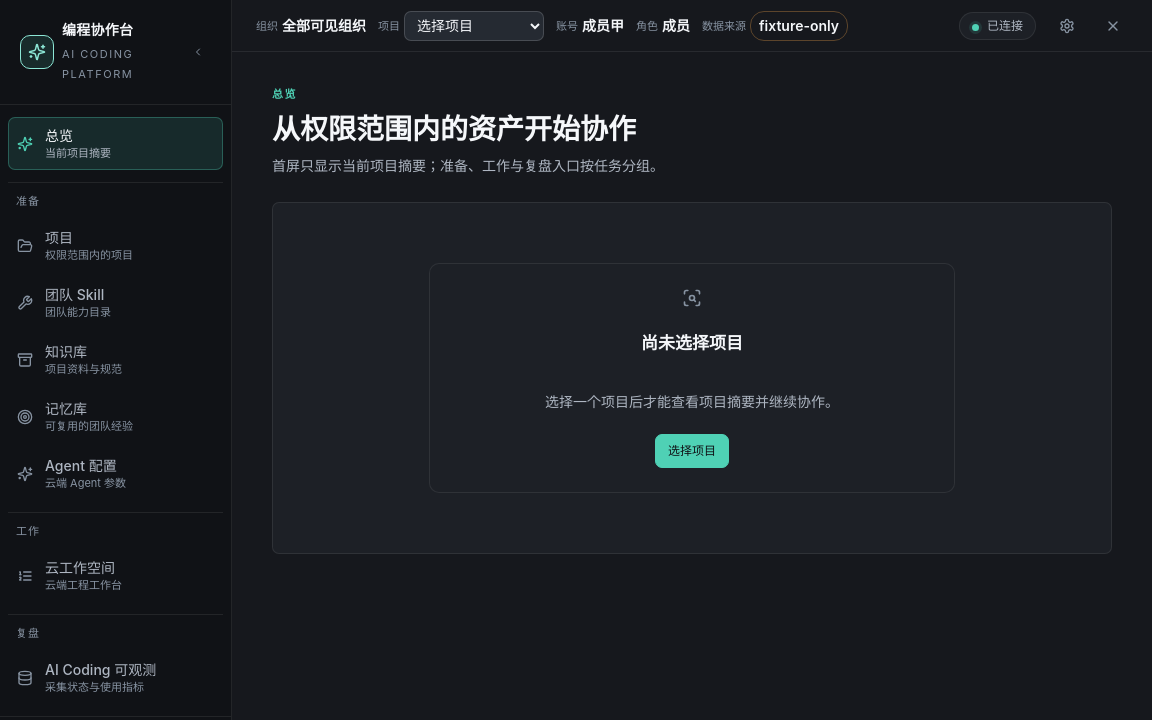
Scenario: UX-01 插件任务导航与上下文 › renders exactly one global project selector provided by the ContextBar
This screenshot has width=1152, height=720.
Select "AI开放平台" in the dropdown named "当前项目" at (474, 26), box [404, 10, 544, 40]
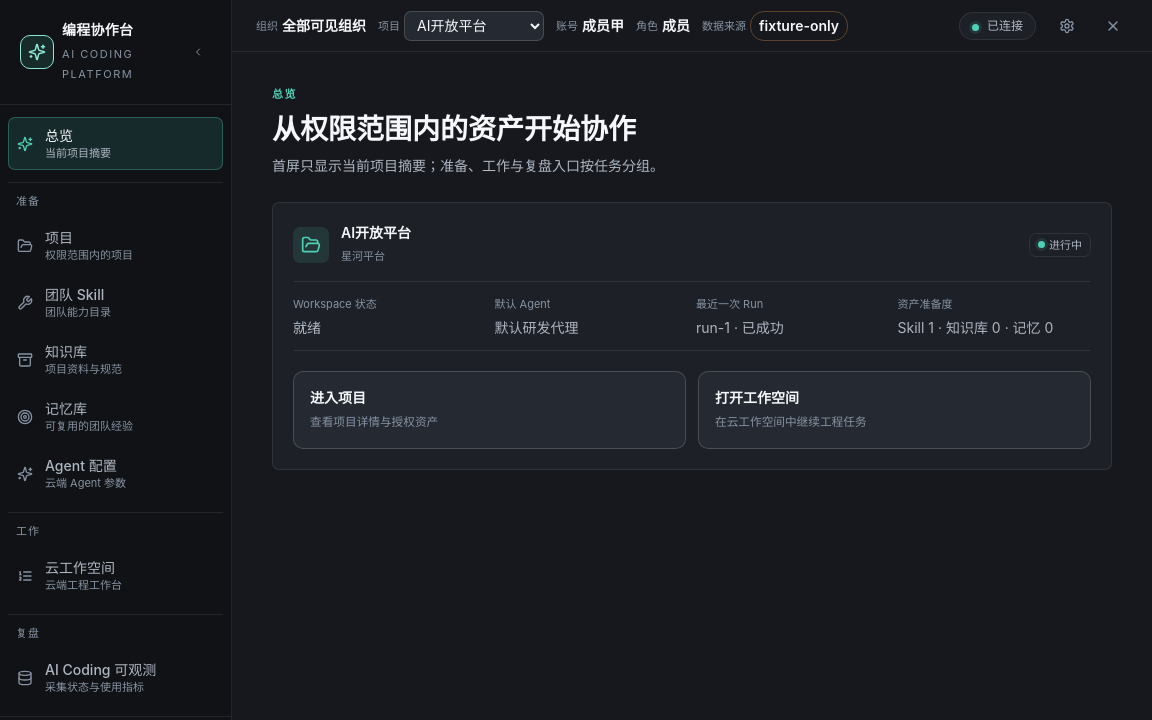
Expected: the number of dropdowns named "当前项目" is 1, [404, 10, 544, 40]
Click the button "项目 权限范围内的项目" at (116, 246), box [8, 219, 223, 272]
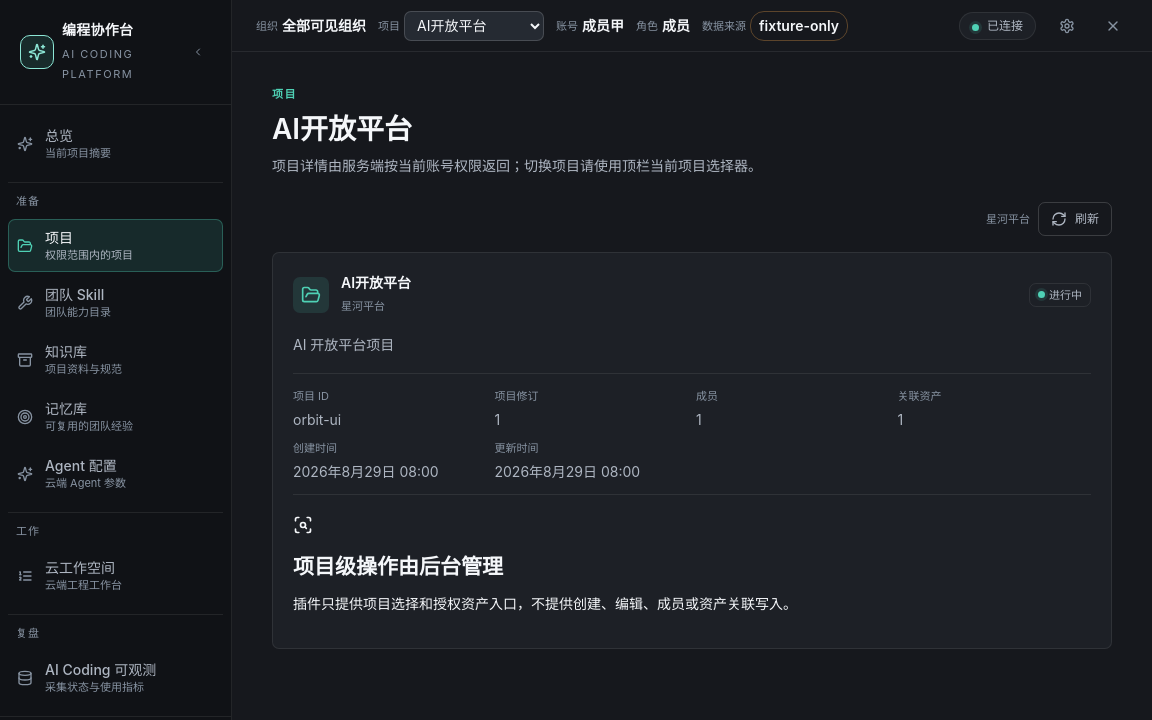
Expected: the number of dropdowns named "当前项目" is 1, [404, 10, 544, 40]
Expected: the text "项目详情由服务端按当前账号权限返回" is shown, [272, 157, 762, 174]
Expected: the button "查看项目" is gone
